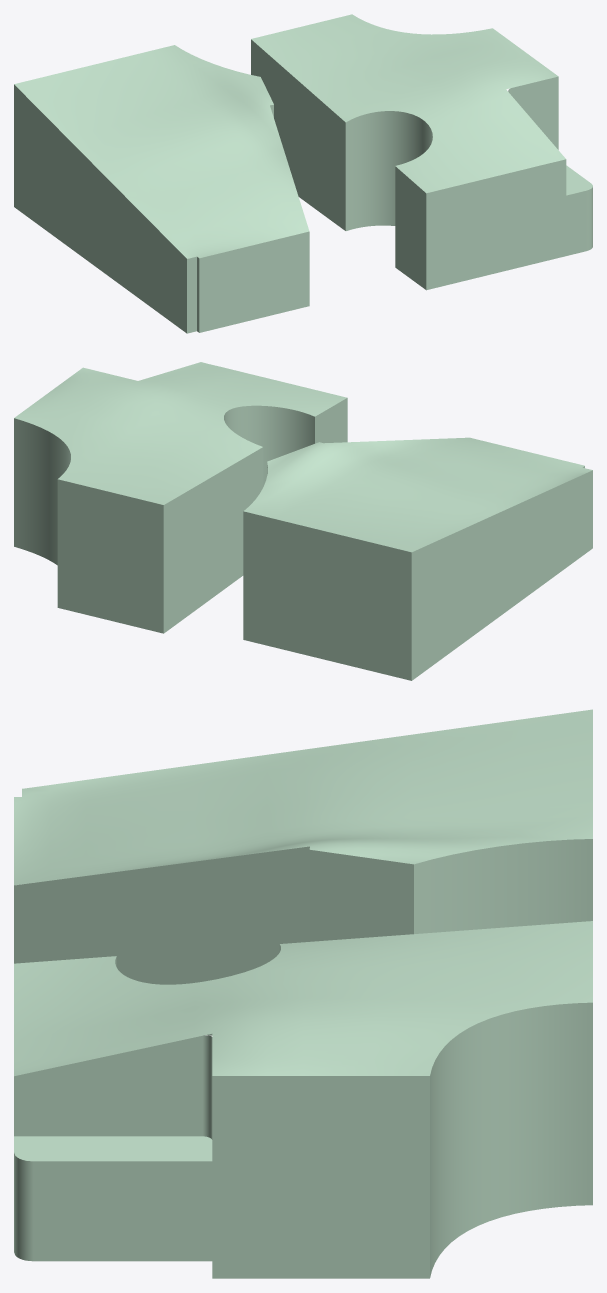
File: volumetric_gallery_type_a.gltf
3 views of the same model, one above another, from view 1: azimuth 30°, elevation 25°; view 2: azimuth 150°, elevation 25°; view 3: azimuth 270°, elevation 25° (orthographic). The views are drawn at different scales.
Bounding box in the file's own units: 79.98 × 24.29 × 56.63.
